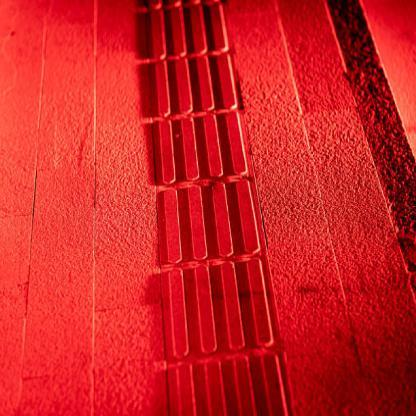podotacti: (144, 0, 295, 415)
